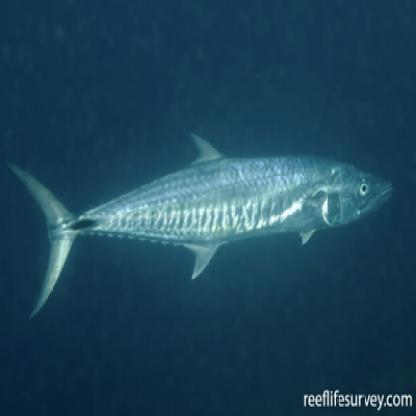tuna: (5, 126, 398, 319)
